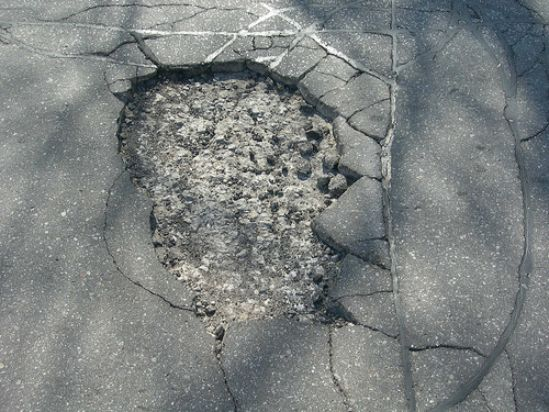pothole: (109, 57, 373, 332)
